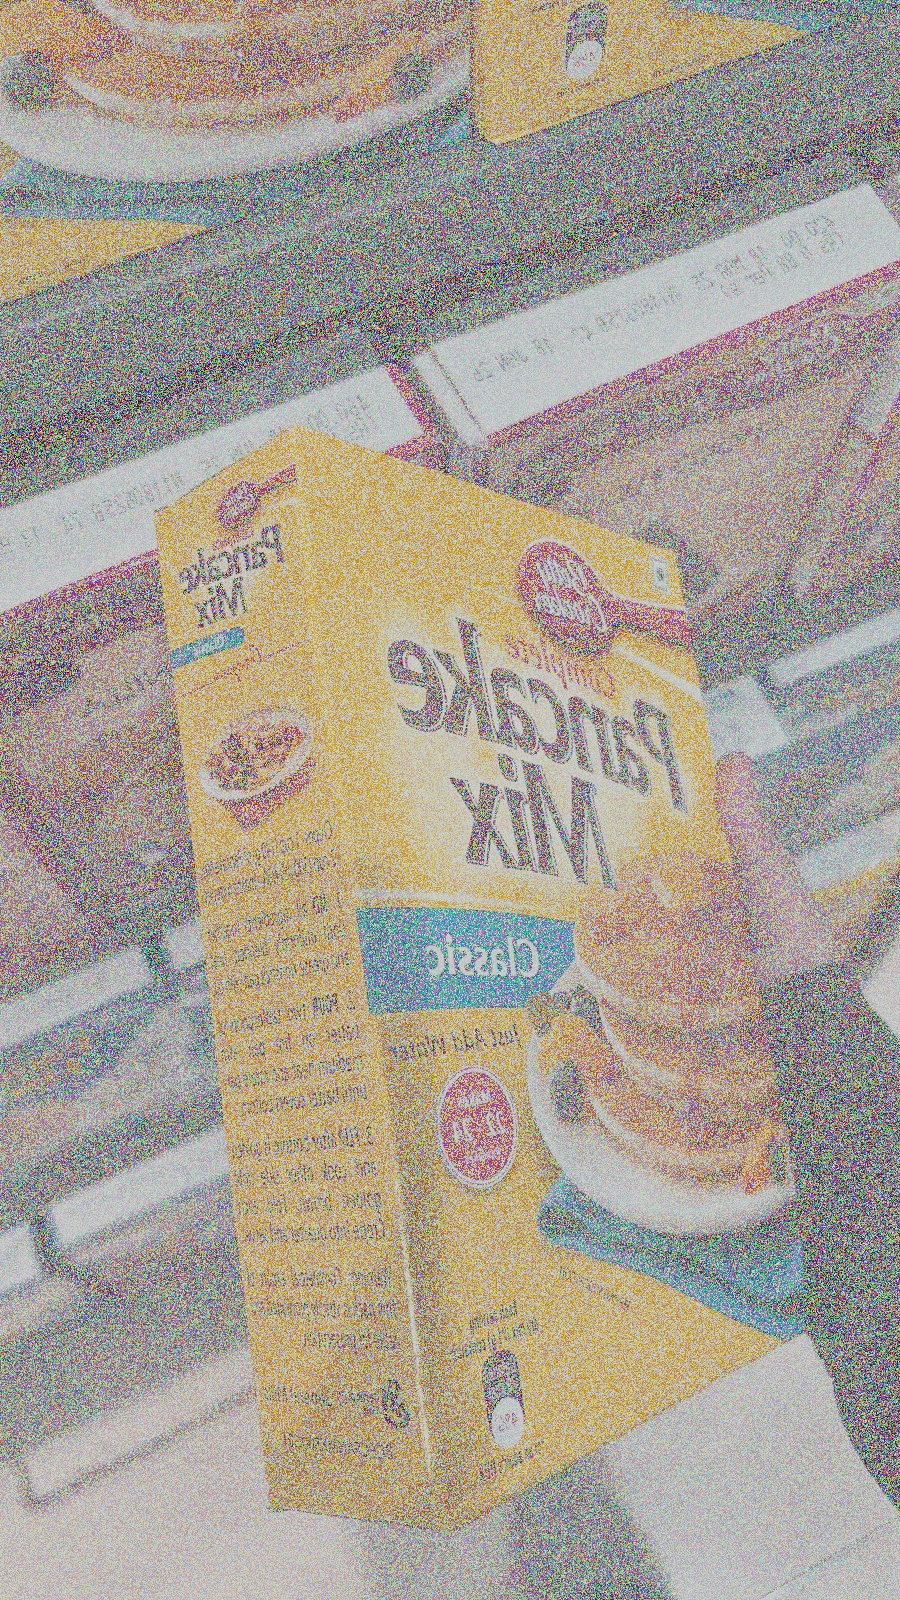Betty Crocker Pancake Mix: (142, 451, 816, 1536)
